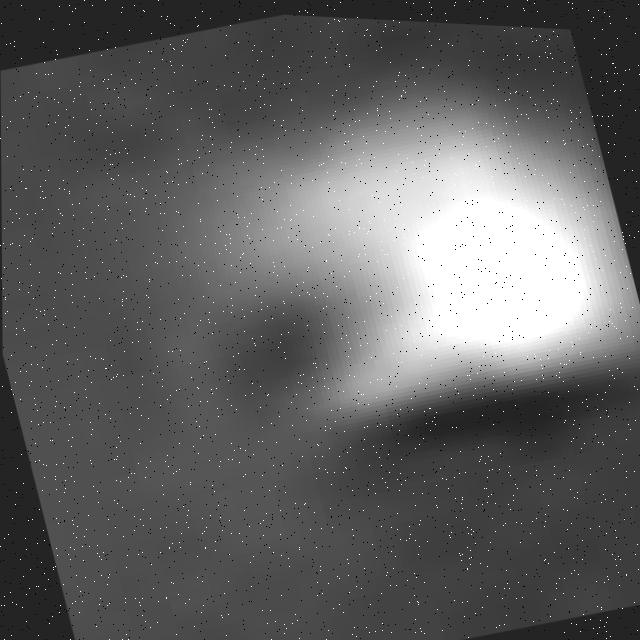person: (98, 31, 640, 495)
